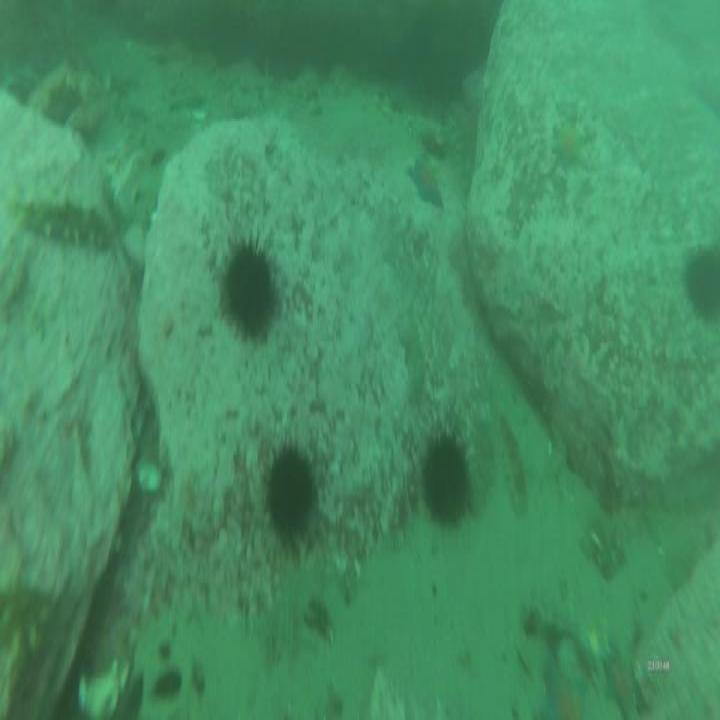echinus: (223, 241, 274, 330), (422, 441, 469, 524), (269, 450, 314, 535), (686, 251, 720, 320)
holothurian: (20, 197, 111, 251), (496, 411, 531, 512), (400, 293, 427, 400)
starfish: (541, 661, 586, 720), (602, 649, 636, 718), (407, 160, 442, 210), (550, 118, 583, 164)
